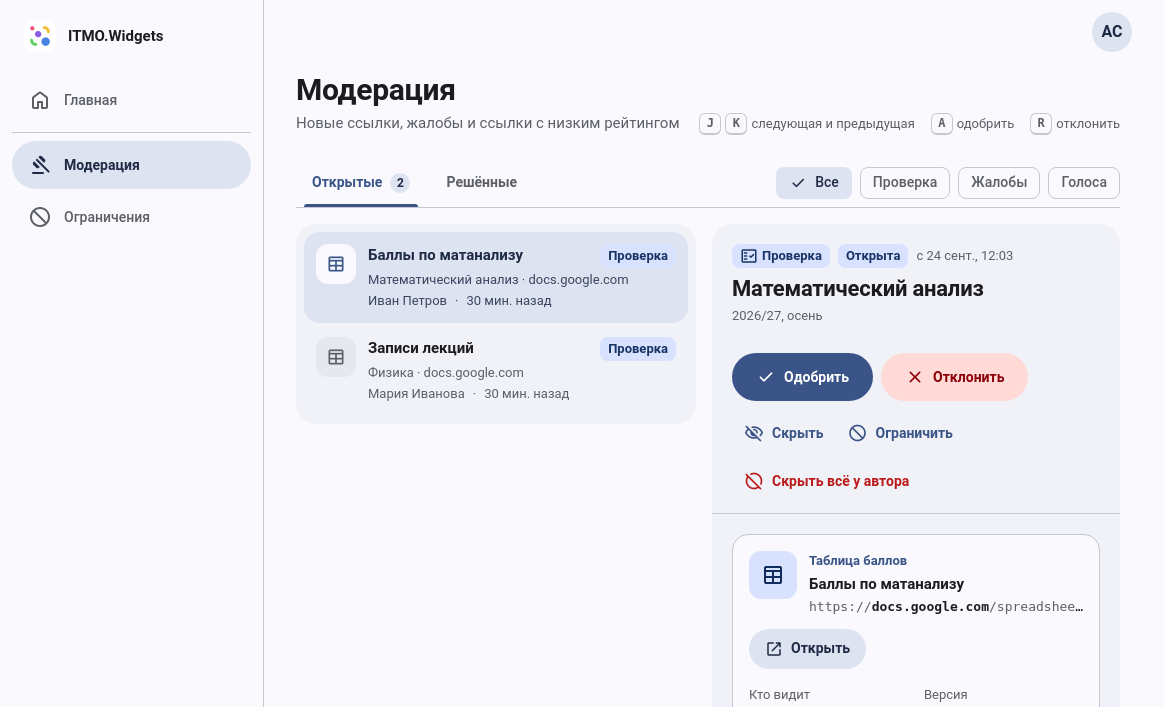
Scenario: ModerationPage › approves a case and moves on to the next one
The image size is (1164, 707).
Click the button "Одобрить": coordinates (803, 377) [732,353,873,401]
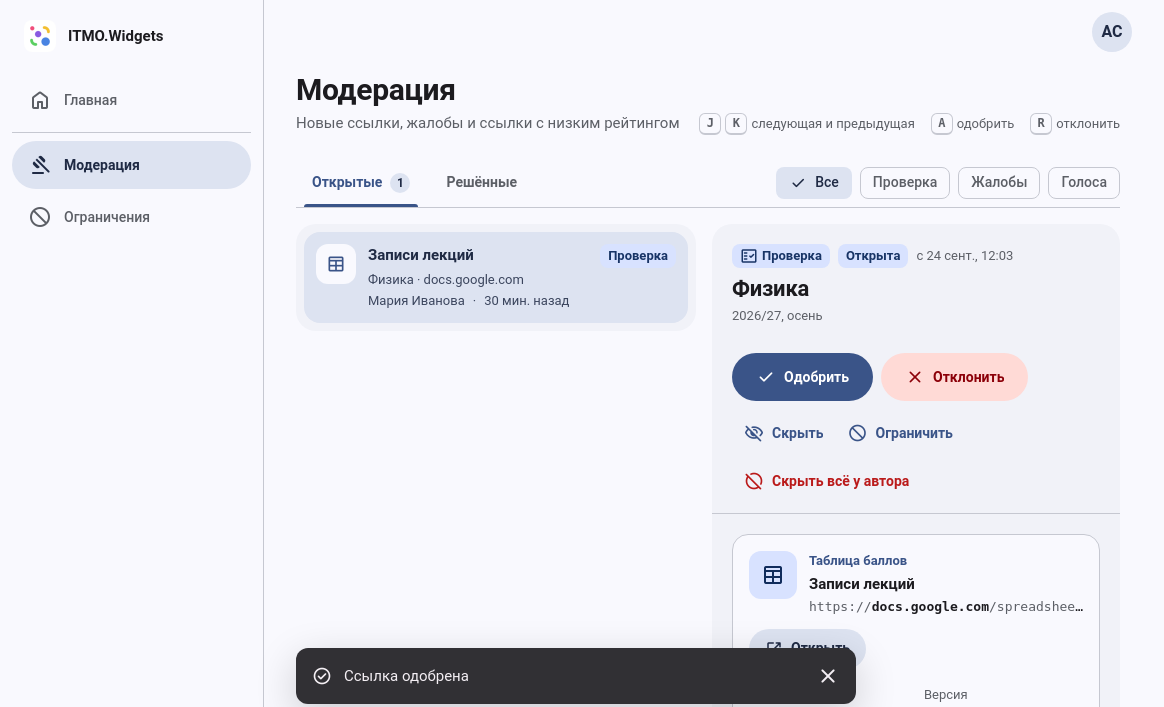
Now the text "Ссылка одобрена" is shown, box [344,667,469,685]
Now the heading "Физика" is shown, box [732,276,809,300]
